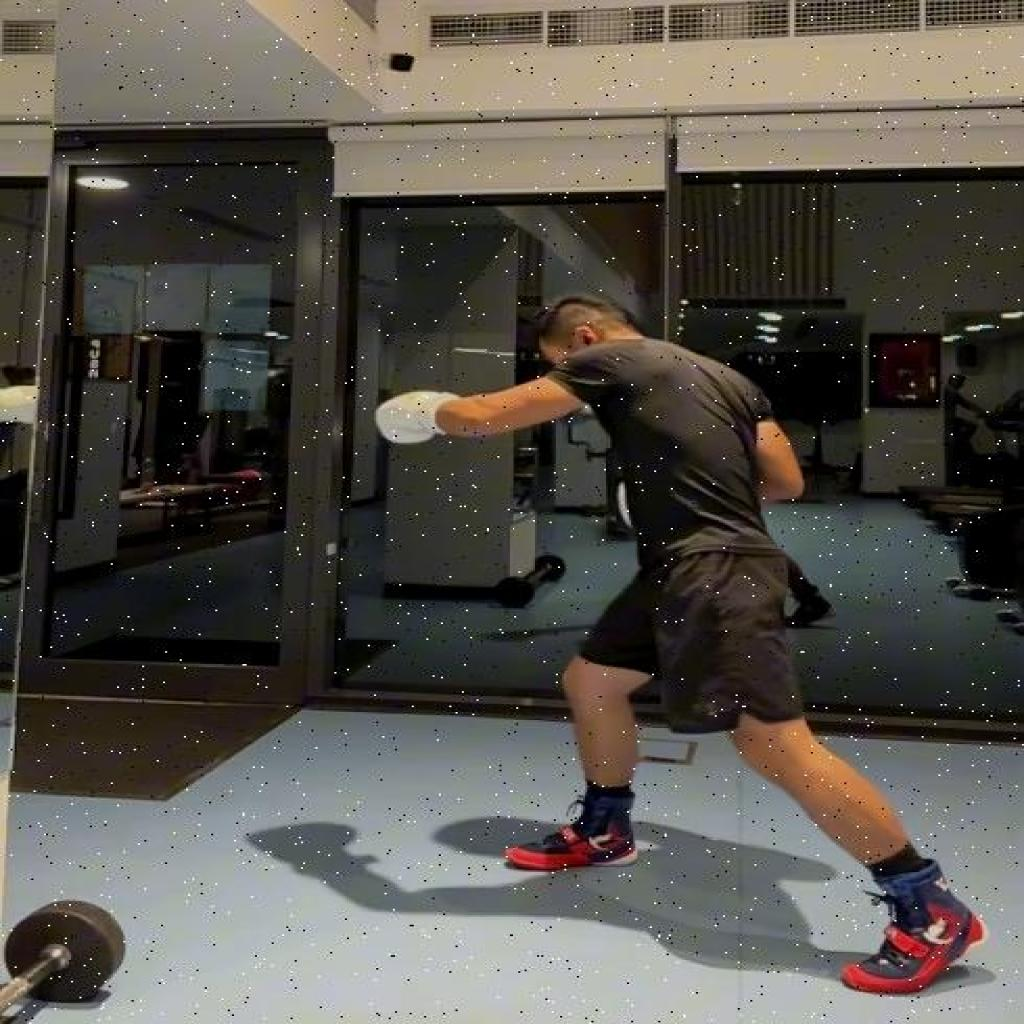cross: (370, 290, 988, 1000)
